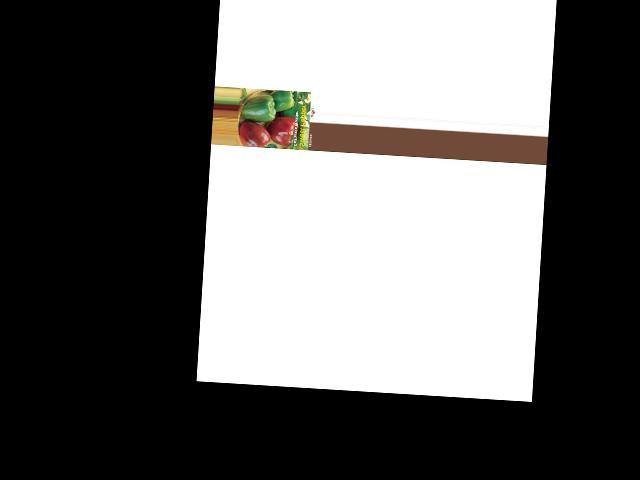bell_pepper: (265, 88, 297, 110)
